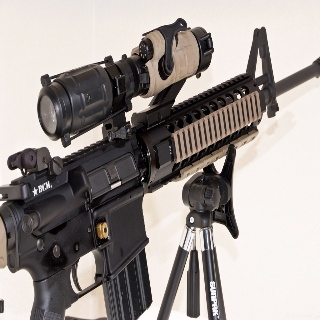rifle: (1, 15, 320, 320)
